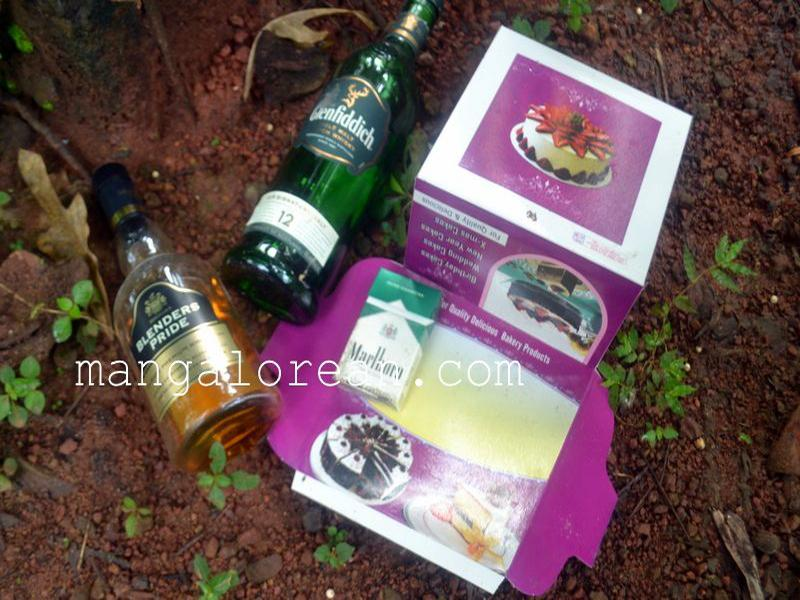bottle: (218, 1, 437, 324), (77, 161, 281, 474)
cardboard: (263, 22, 695, 597)
